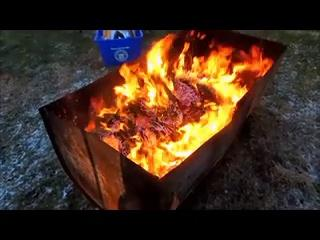Fire: (159, 54, 231, 113)
